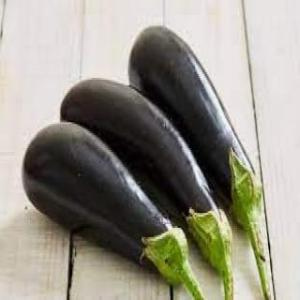eggplant: (61, 78, 229, 248), (22, 122, 186, 284), (130, 26, 258, 212)
